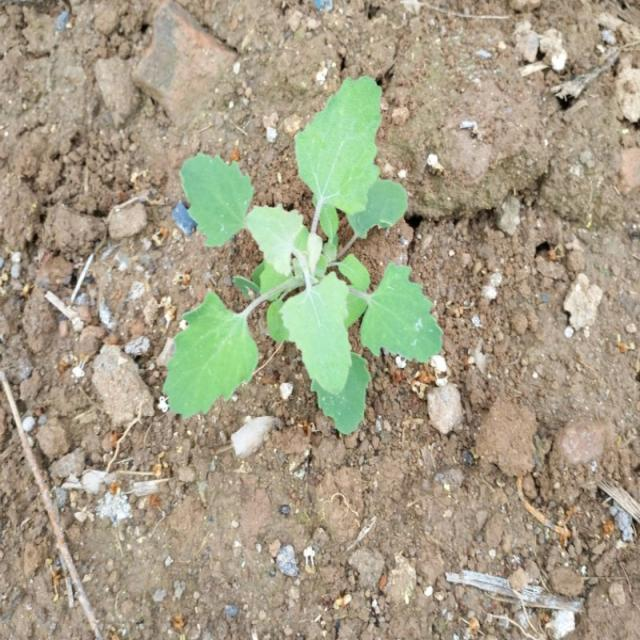ca: (165, 75, 444, 437)
